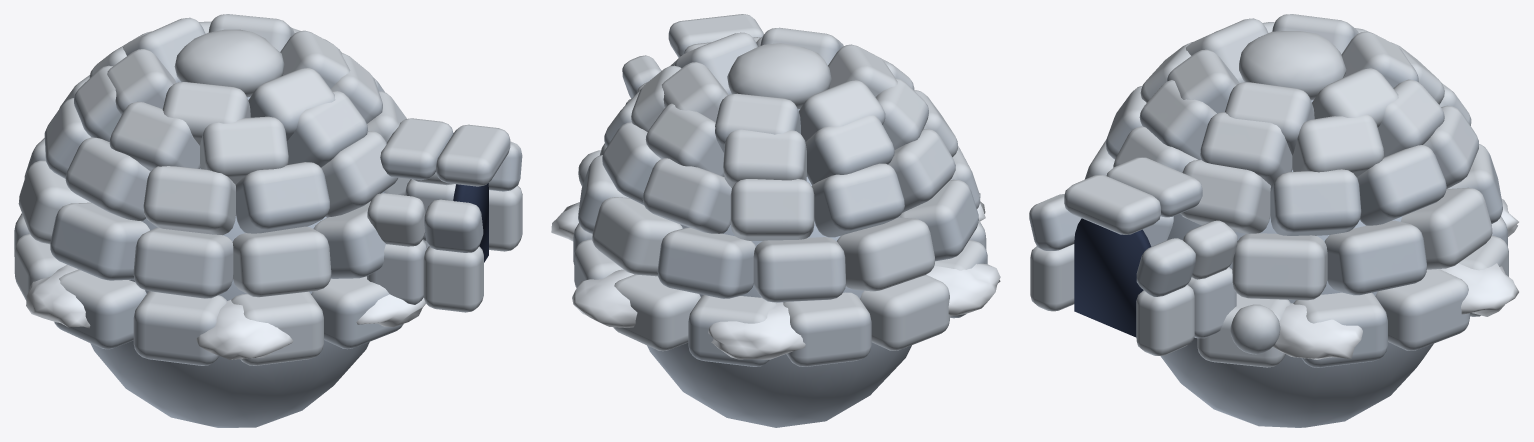
File: igloo.glb
3 views of the same model, side by side, from view 1: azimuth 30°, elevation 25°; view 2: azimuth 150°, elevation 25°; view 3: azimuth 270°, elevation 25° (orthographic). The views are drawn at different scales.
Visible parts, largest first — view 1: iball; view 2: iball; view 3: iball.
Boxes of the visible parts, box(x1,y1,x2,y2) form: iball: box(14, 14, 522, 427); iball: box(551, 14, 1000, 427); iball: box(1029, 14, 1518, 427).
Bounding box in the file's own units: 2.22 × 1.83 × 2.16.
Materials: 1 (1 with a texture image).
